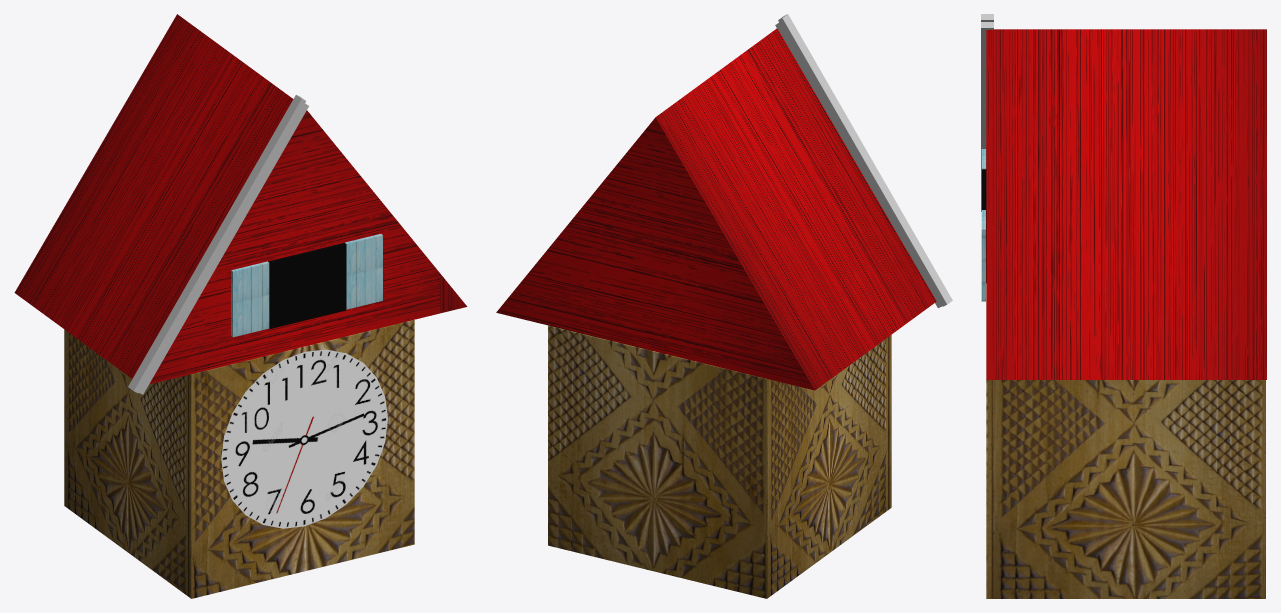
File: CuckooBase.obj
3 views of the same model, side by side, from view 1: azimuth 30°, elevation 25°; view 2: azimuth 150°, elevation 25°; view 3: azimuth 270°, elevation 25° (orthographic). The views are drawn at different scales.
Parts seen in each view (by area): view 1: CuckooBase; view 2: CuckooBase; view 3: CuckooBase.
Boxes of the visible parts, x1,y1,x2,y2 form: CuckooBase: (14, 14, 467, 598); CuckooBase: (496, 14, 952, 598); CuckooBase: (981, 14, 1266, 598).
Size of the model in its own units: 3.87 by 5.23 by 2.59.
